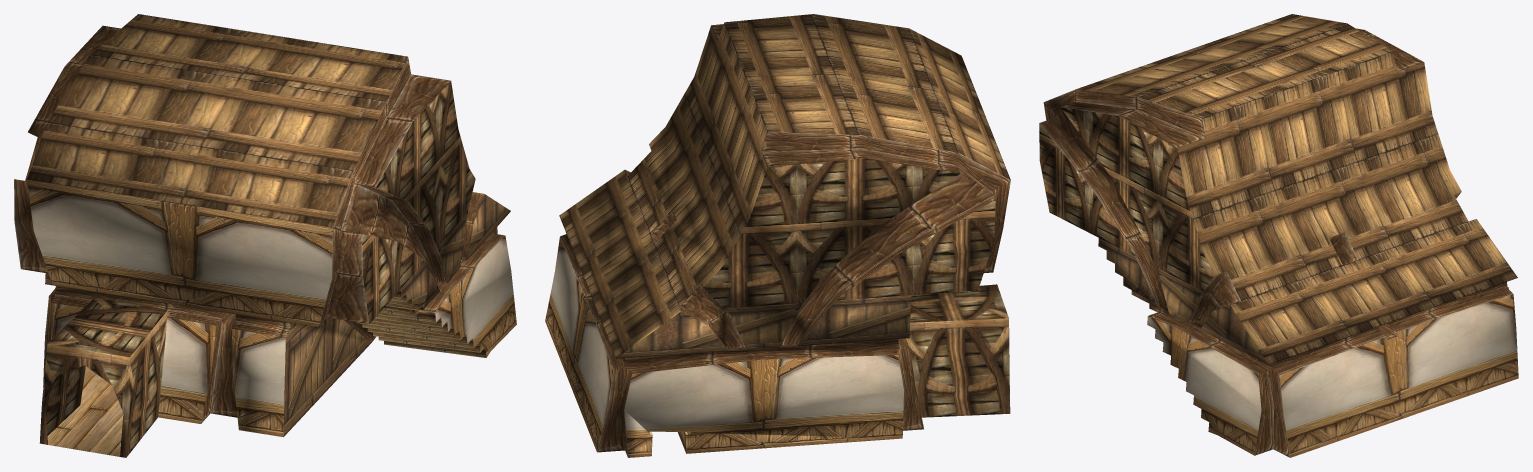
The model's file is stormwind_112.fbx.
3 views of the same model, side by side, from view 1: azimuth 30°, elevation 25°; view 2: azimuth 150°, elevation 25°; view 3: azimuth 270°, elevation 25° (orthographic). The views are drawn at different scales.
Parts seen in each view (by area): view 1: stormwind_112_55, stormwind_112_48, stormwind_112_53, stormwind_112_49, stormwind_112_56, stormwind_112_51; view 2: stormwind_112_55, stormwind_112_49, stormwind_112_48, stormwind_112_53, stormwind_112_56; view 3: stormwind_112_55, stormwind_112_48, stormwind_112_53, stormwind_112_49, stormwind_112_56.
Part boxes in pixels (<box>): stormwind_112_55: <box>27,14,407,227</box>; stormwind_112_48: <box>27,179,516,437</box>; stormwind_112_53: <box>14,25,504,423</box>; stormwind_112_49: <box>39,81,475,457</box>; stormwind_112_56: <box>45,194,510,436</box>; stormwind_112_51: <box>47,366,123,456</box>; stormwind_112_55: <box>559,14,1010,358</box>; stormwind_112_49: <box>703,158,1010,417</box>; stormwind_112_48: <box>545,237,903,457</box>; stormwind_112_53: <box>560,24,1010,456</box>; stormwind_112_56: <box>616,295,911,453</box>; stormwind_112_55: <box>1075,14,1517,364</box>; stormwind_112_48: <box>1131,290,1518,457</box>; stormwind_112_53: <box>1039,28,1513,457</box>; stormwind_112_49: <box>1039,107,1214,291</box>; stormwind_112_56: <box>1098,238,1267,364</box>.
Size of the model in its own units: 21.5 by 13.59 by 21.11.
